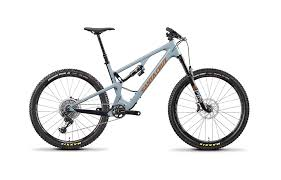bicycle: (19, 17, 258, 158)
